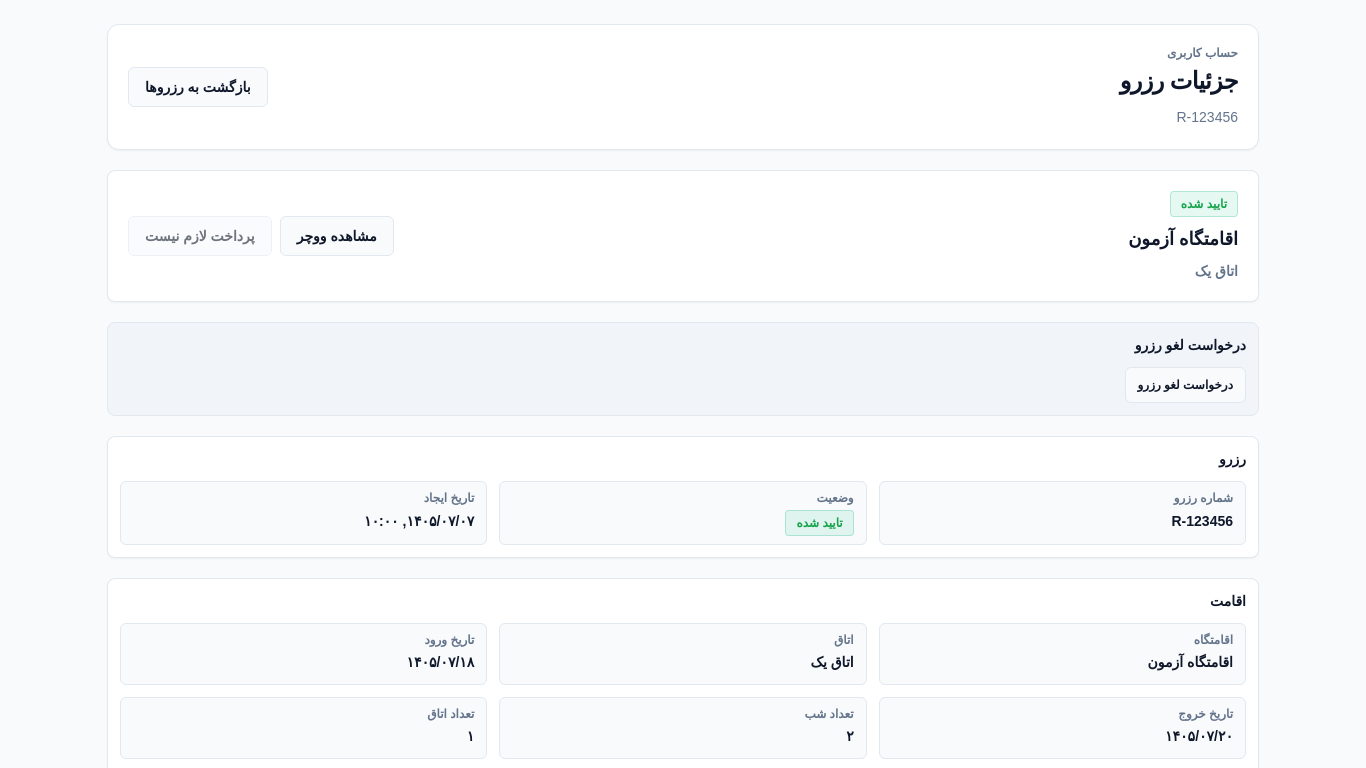
Test: Guest cancellation request in existing reservation details › requires a backend-valid reason and submits only reason plus optional message
Click the button "درخواست لغو رزرو". click: point(1185, 385)
box: [1125,367,1246,403]
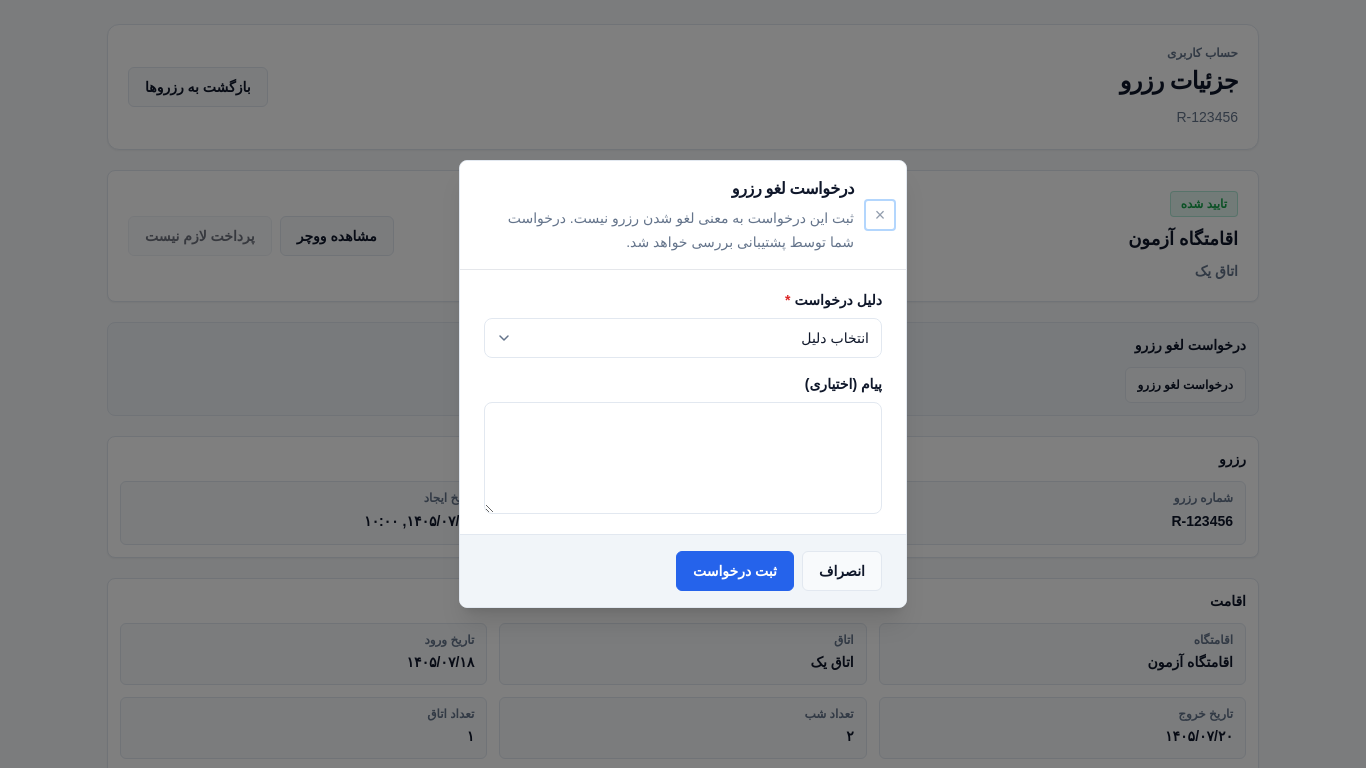
Click the button "ثبت درخواست". click: point(735, 571)
box: [676,551,794,591]
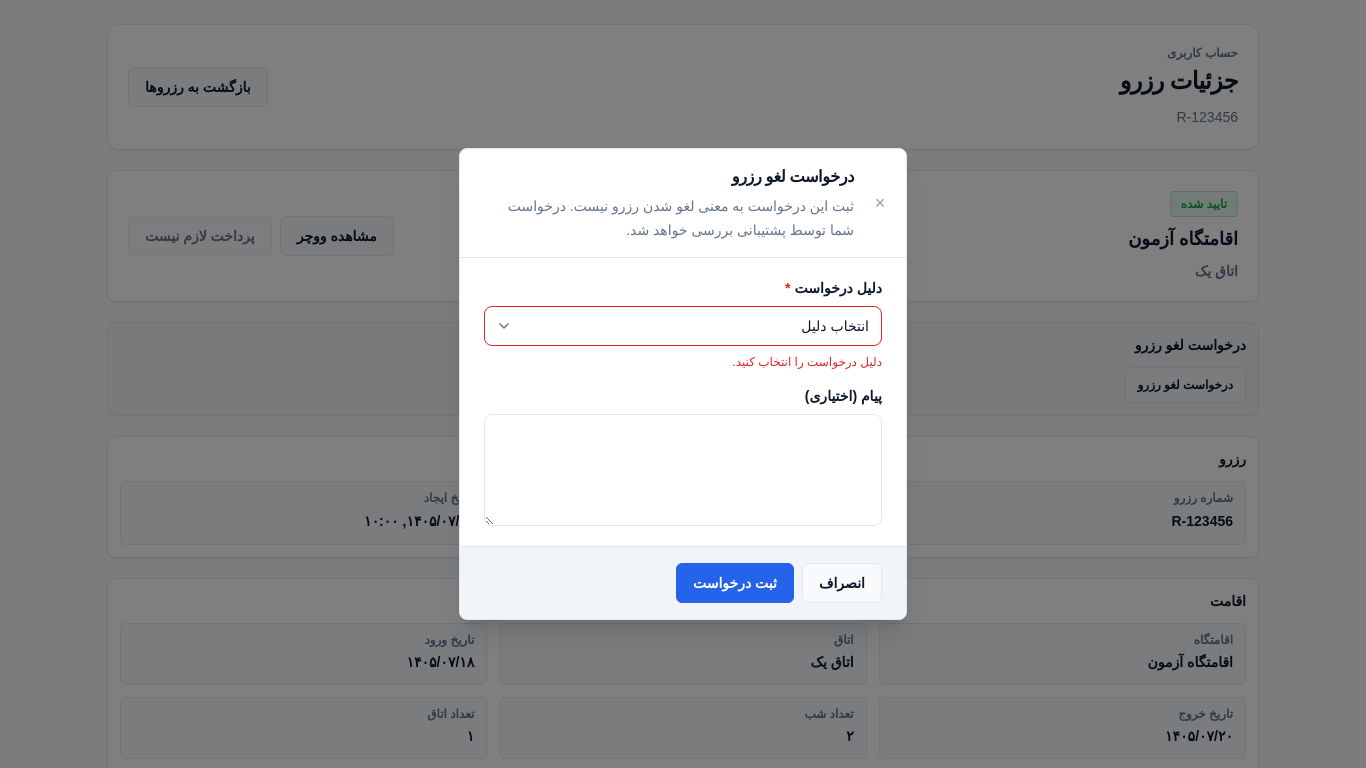
expect the text "دلیل درخواست را انتخاب کنید." is shown: met, box [732,355,882,369]
Select "درخواست مهمان" in the dropdown labelled "دلیل درخواست*". click: point(683, 326)
box: [484,306,882,346]
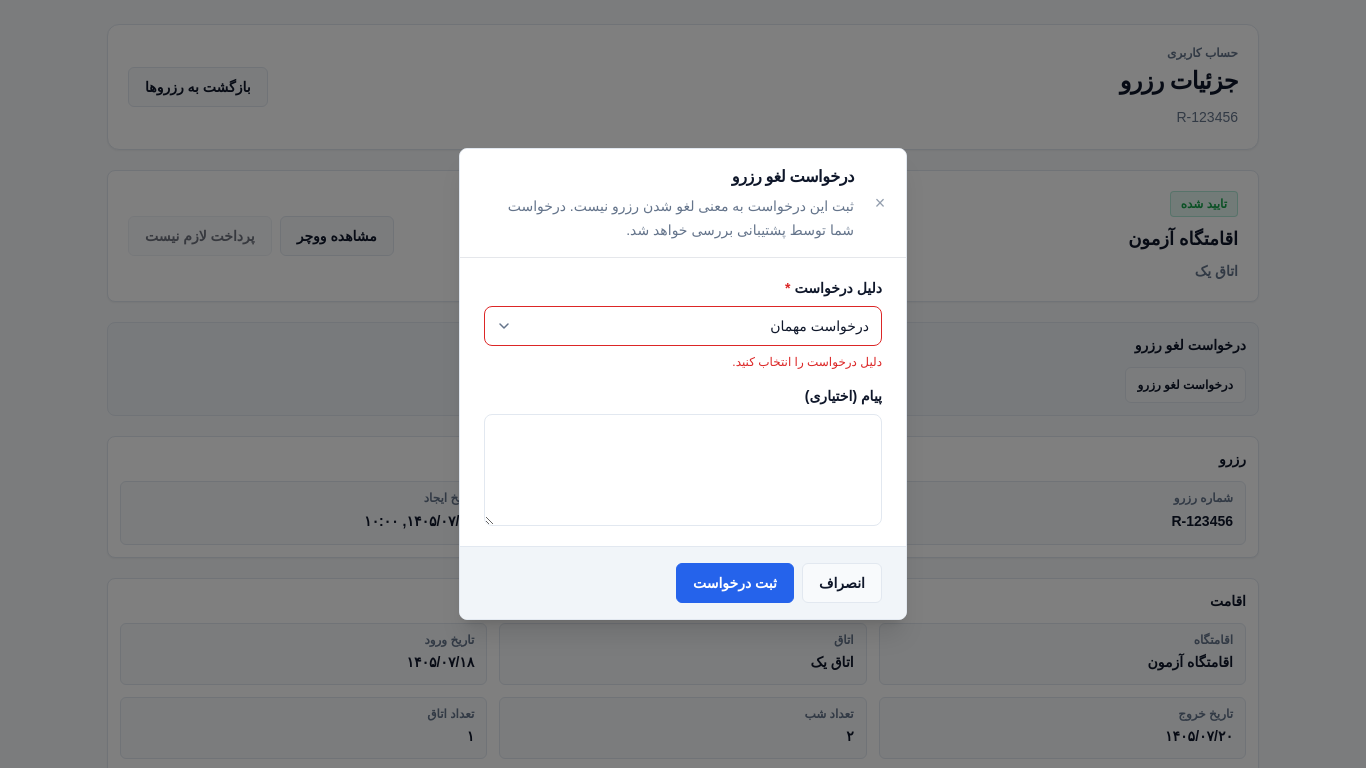
Type "  لطفاً بررسی کنید  " into the text box labelled "پیام (اختیاری)". click: point(683, 470)
box: [484,414,882,526]
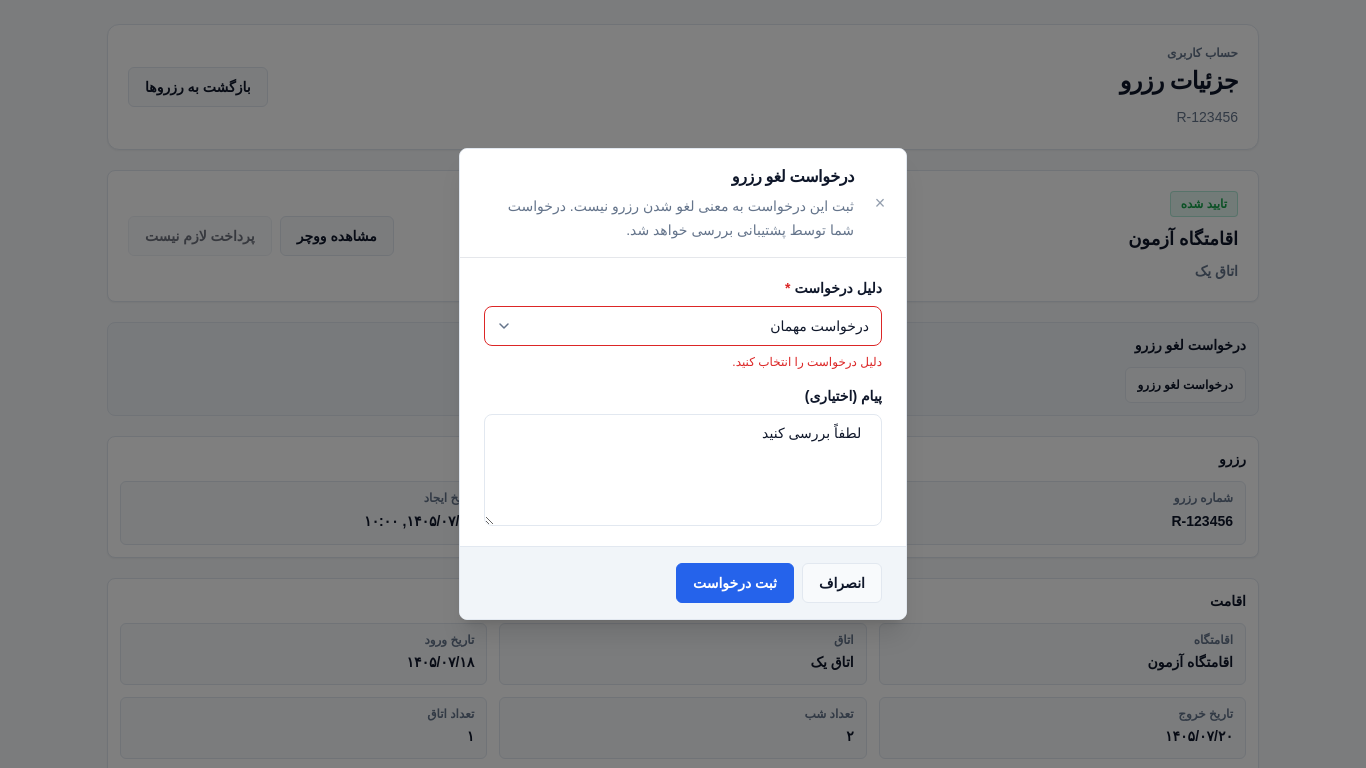
Click the button "ثبت درخواست". click: point(735, 583)
box: [676,563,794,603]
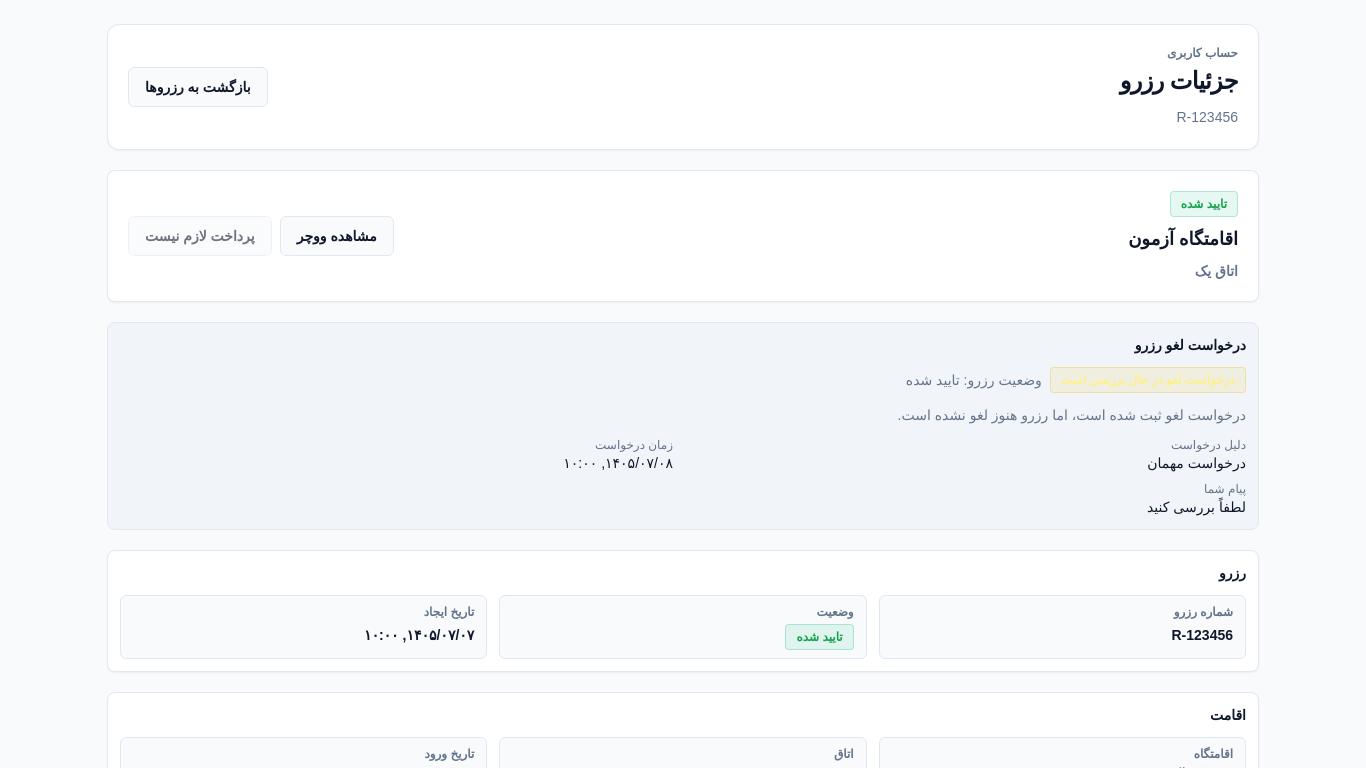
expect the text "درخواست لغو در حال بررسی است" is shown: met, box [1050,367,1246,393]
